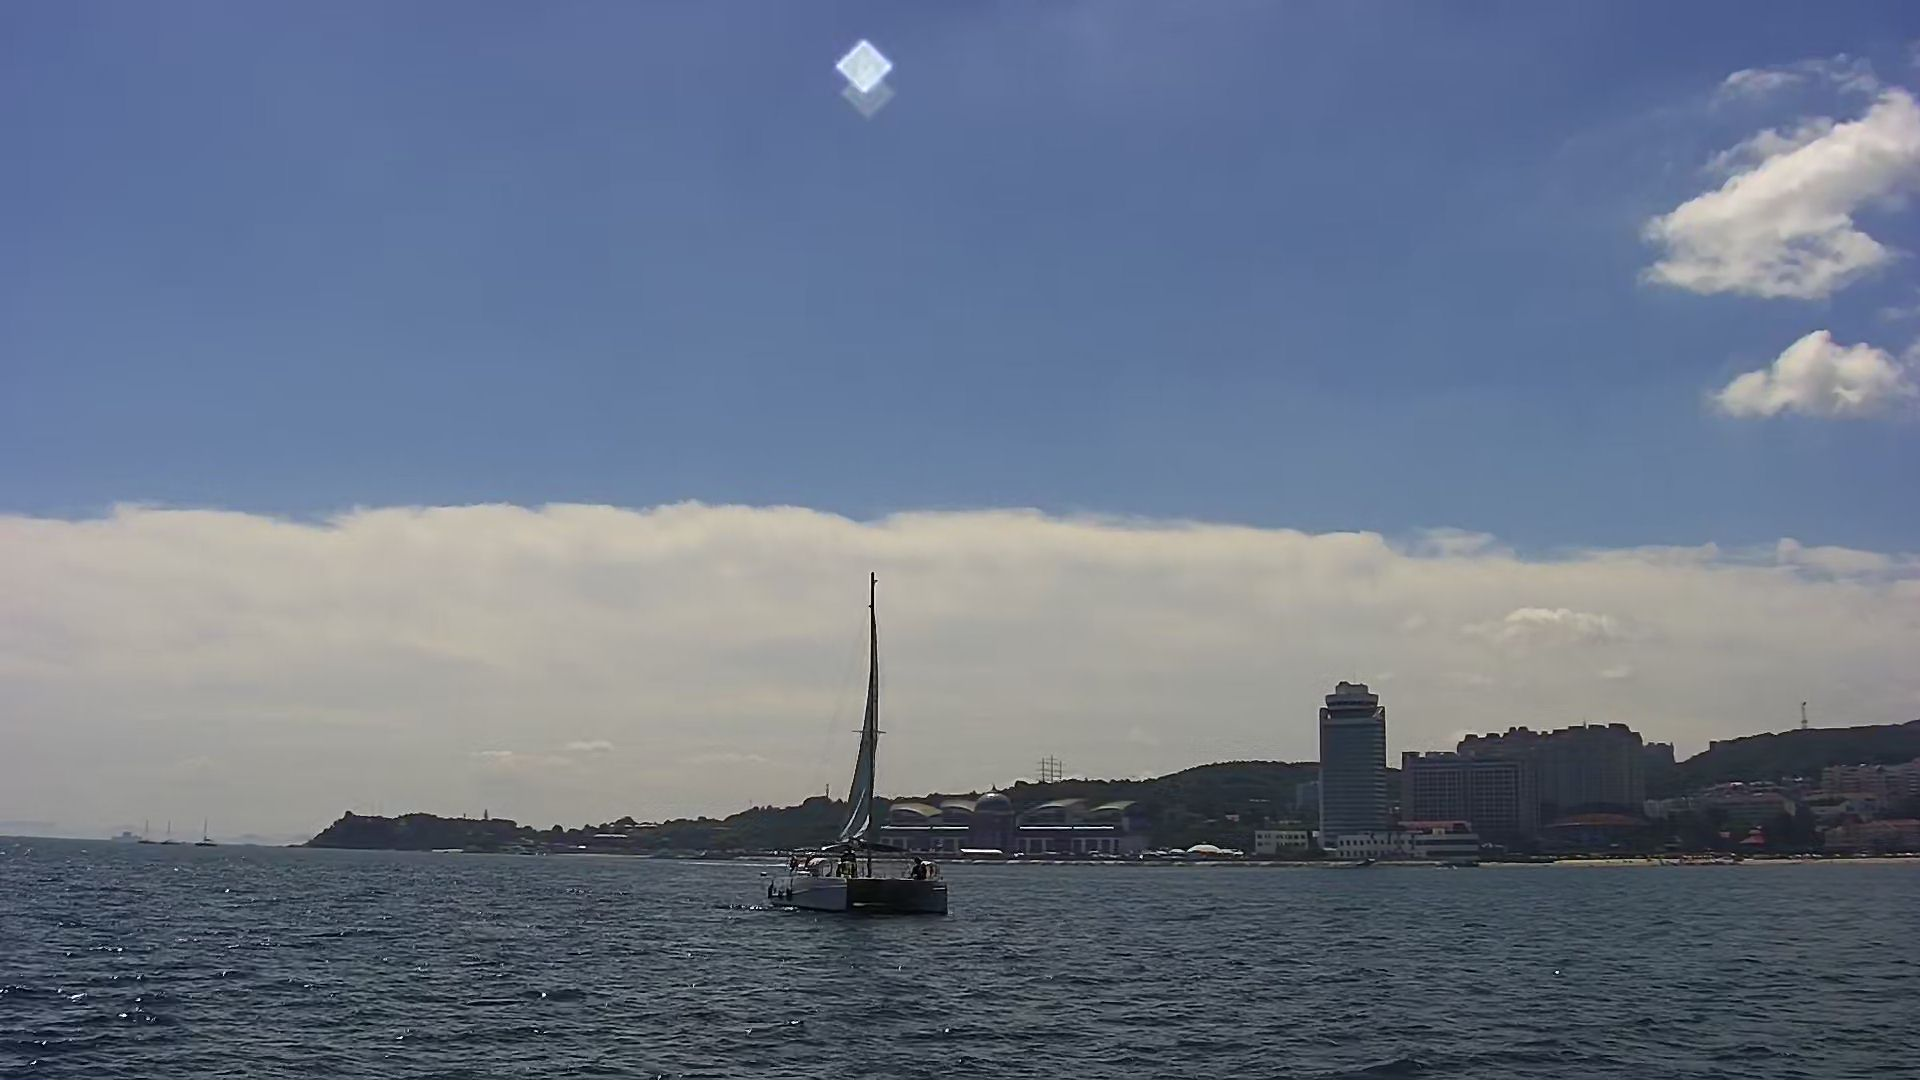boat: (767, 578, 945, 922)
